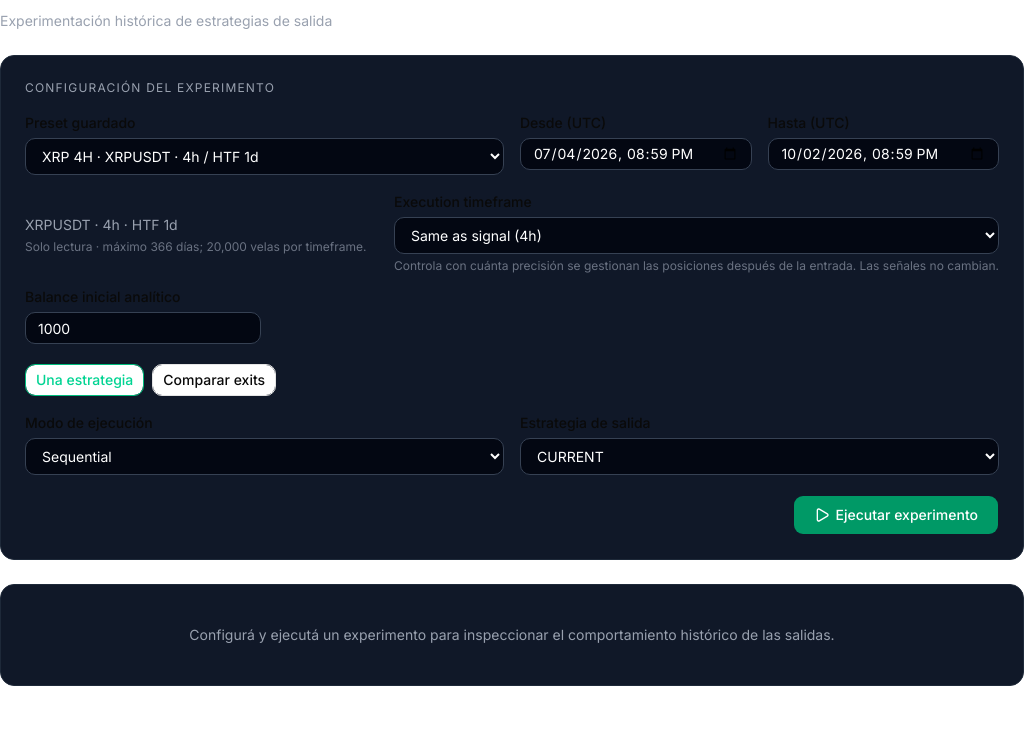
Test: Research Lab › compares selected exits and renders fixed cohort banner
Expected: the dropdown labelled "Preset guardado" is shown, [25,138,504,175]
Click the button "Comparar exits".
click(214, 380)  # box [152,364,276,396]
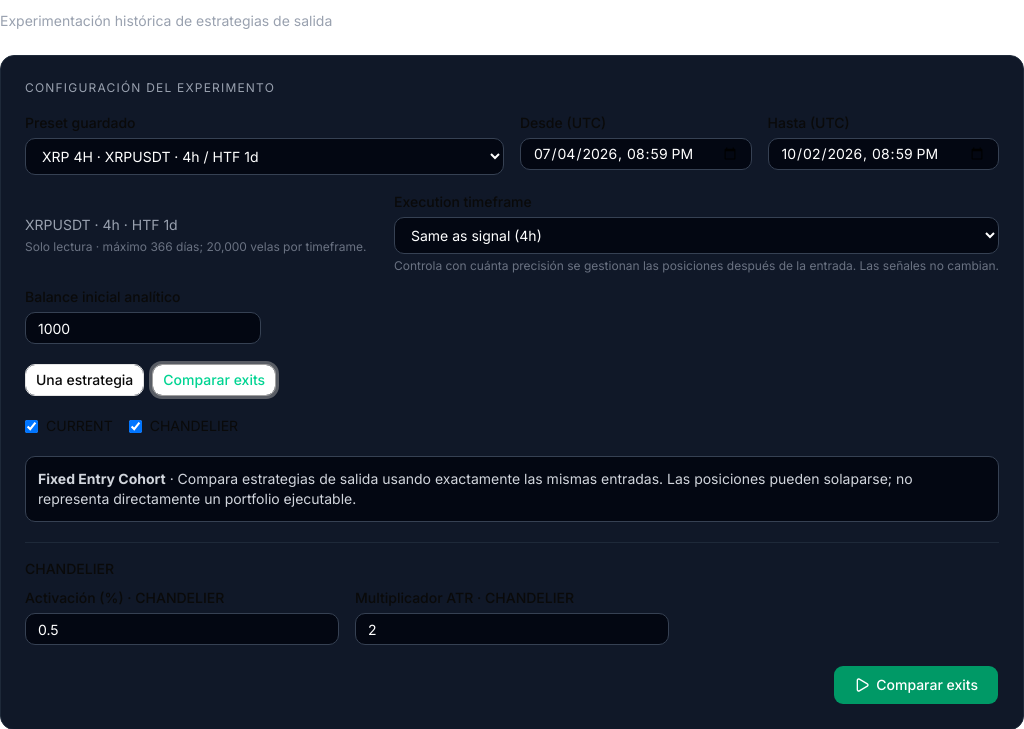
Click the 2nd button "Comparar exits".
click(916, 685)  # box [833,665,999,705]
(page scrolled)
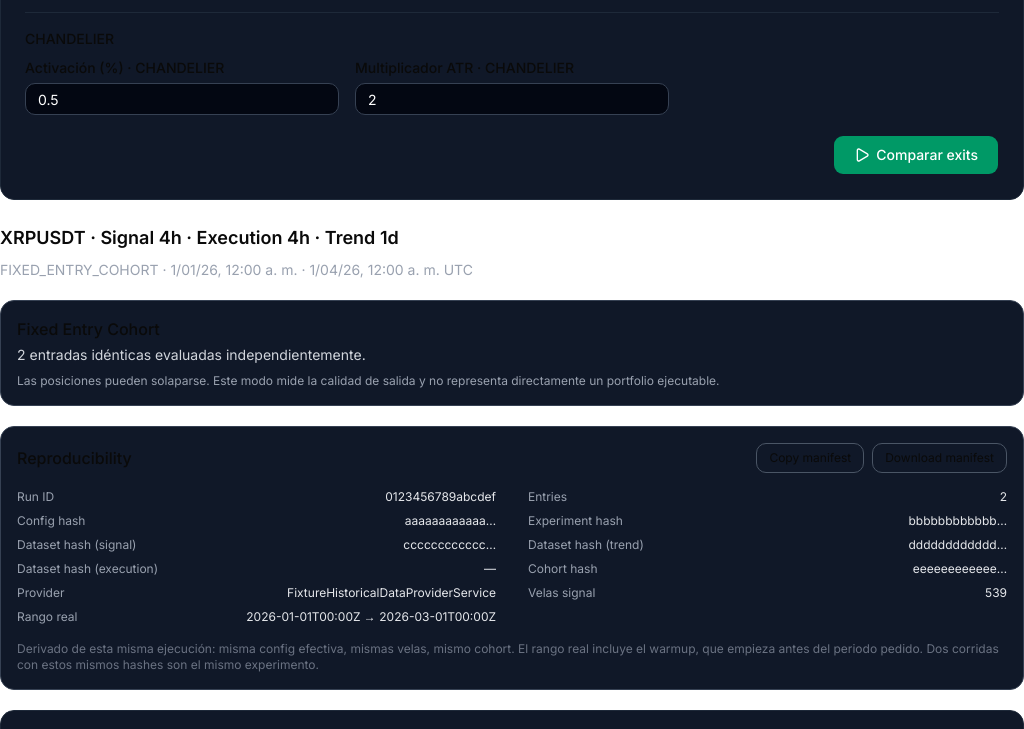
Expected: the text "2 entradas idénticas evaluadas independientemente." is shown, [17,346,366,363]
